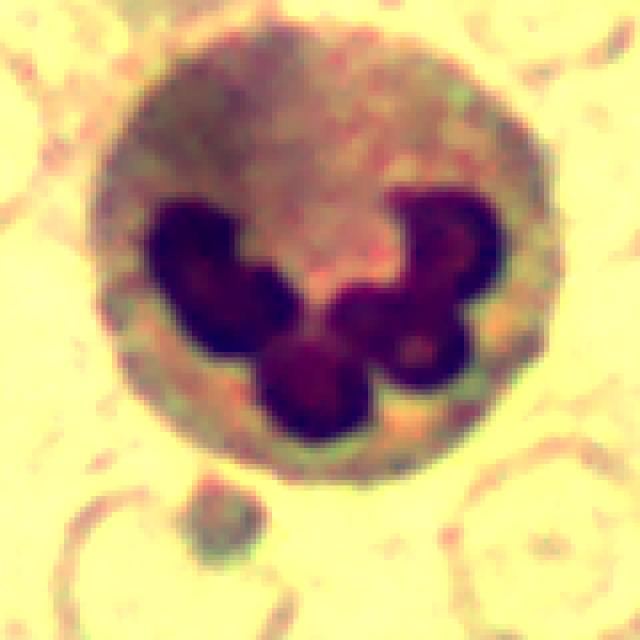WBC: (61, 0, 578, 523)
